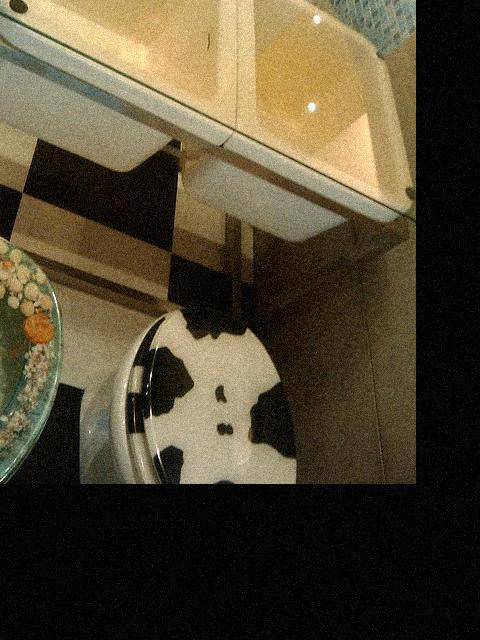Lavamanos: (0, 0, 403, 255)
Sanitario: (74, 287, 300, 477), (0, 219, 64, 480)
